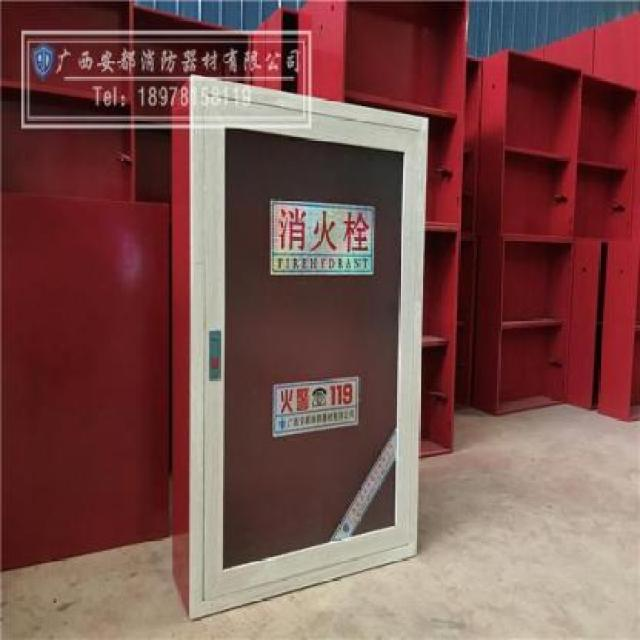firehydrant: (168, 71, 432, 627)
